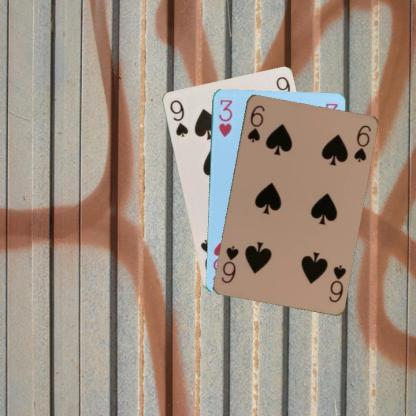3h: (216, 97, 234, 138)
6s: (244, 102, 266, 144), (326, 262, 347, 303)
9s: (167, 97, 189, 138)
